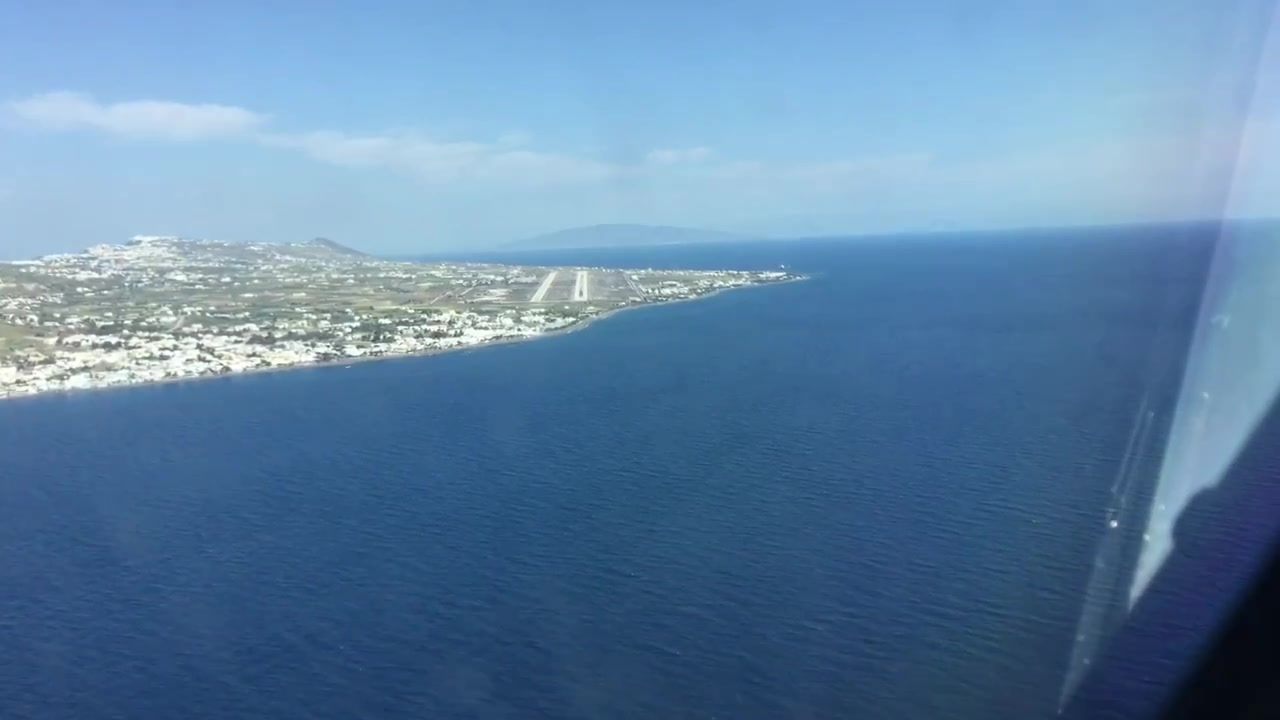runway: (527, 270, 558, 303), (572, 271, 589, 302)
